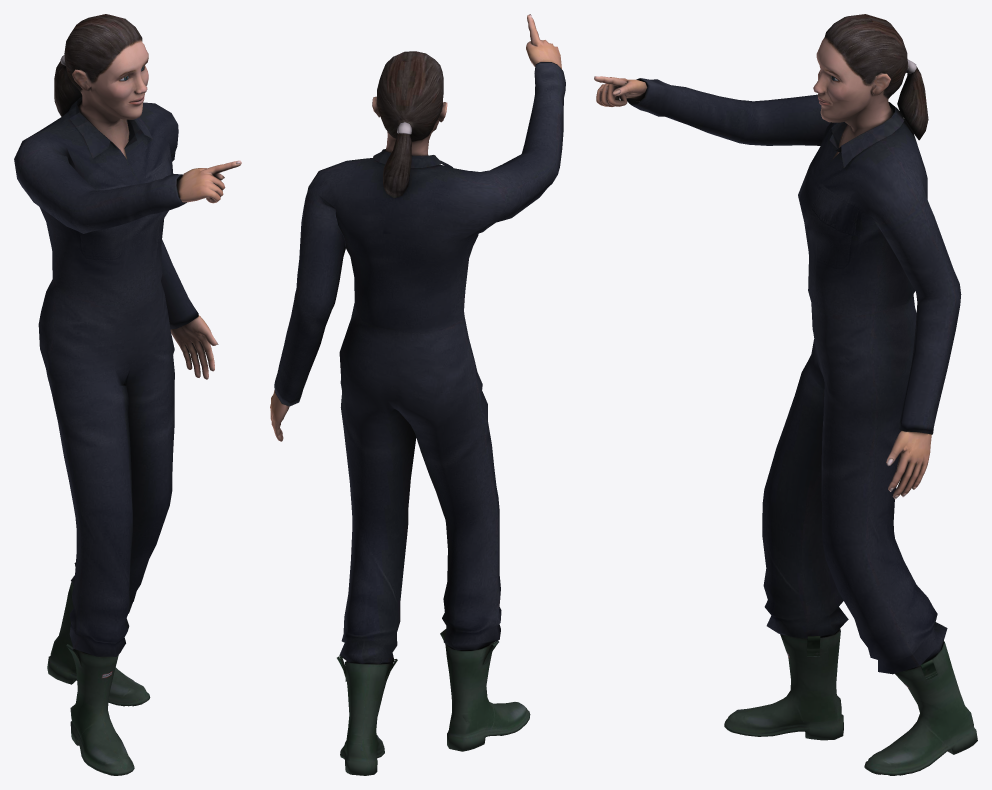
The model's file is SWRK01_09_01.FBX.
3 views of the same model, side by side, from view 1: azimuth 30°, elevation 25°; view 2: azimuth 150°, elevation 25°; view 3: azimuth 270°, elevation 25° (orthographic). The views are drawn at different scales.
Visible parts, largest first — view 1: SWRK01_09_01; view 2: SWRK01_09_01; view 3: SWRK01_09_01.
Part boxes in pixels (left/top/right/bottom): SWRK01_09_01: left=14, top=14, right=241, bottom=775; SWRK01_09_01: left=270, top=14, right=565, bottom=775; SWRK01_09_01: left=594, top=14, right=977, bottom=775.
Size of the model in its own units: 22.04 by 67.19 by 31.88.
Materials: 1 (1 with a texture image).
